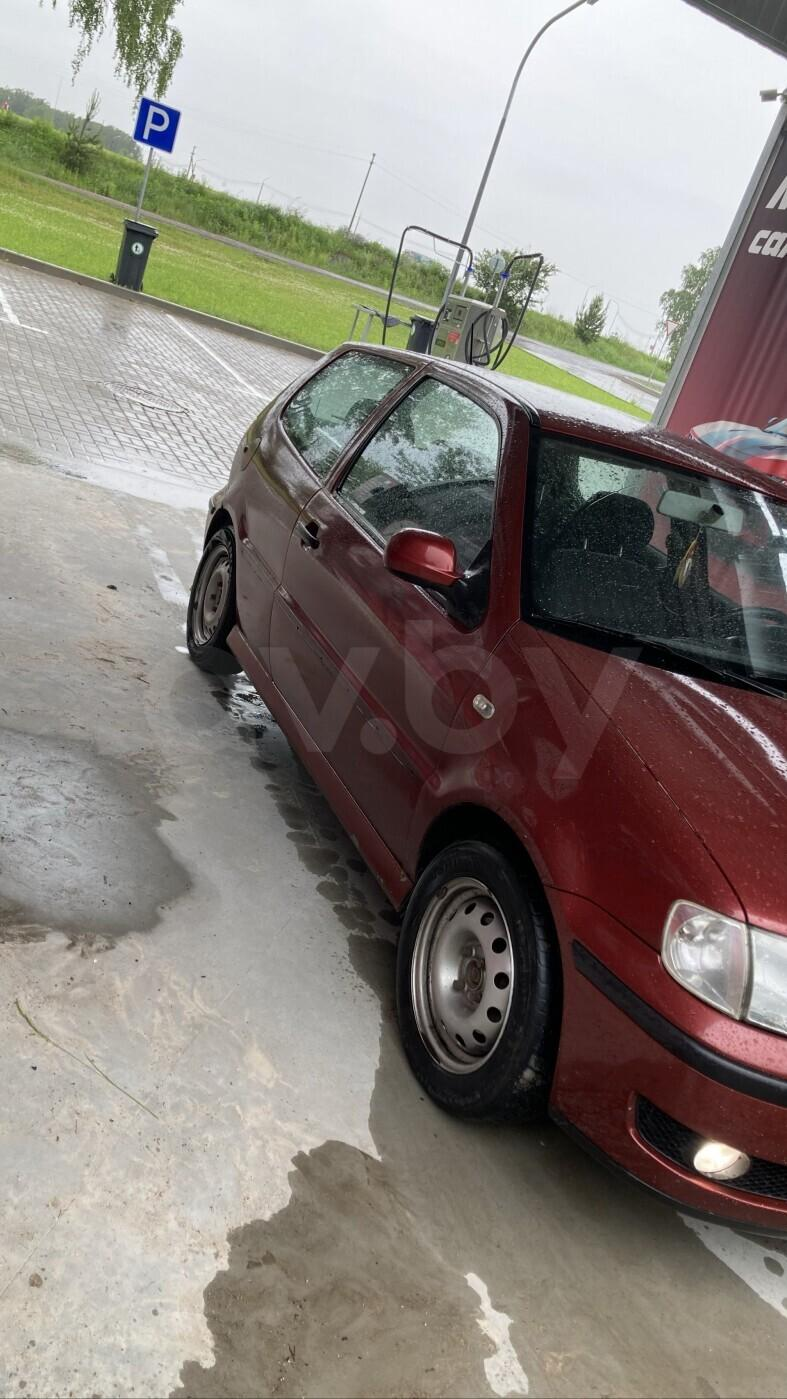Polo_2000-2002: (180, 326, 787, 1252)
